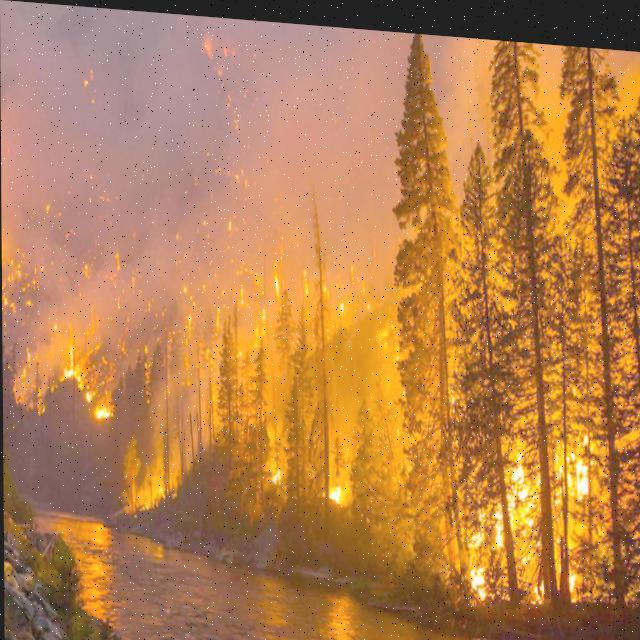Fire: (464, 406, 610, 611), (10, 266, 126, 426), (323, 476, 342, 500), (266, 463, 281, 482)
